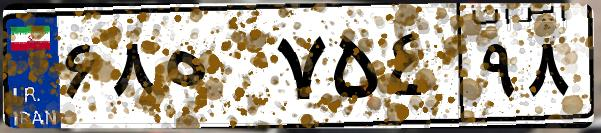4: (385, 28, 445, 110)
5: (330, 28, 385, 110)
6: (57, 26, 110, 100)
7: (270, 28, 330, 110)
8: (525, 38, 570, 115), (110, 28, 158, 98)
9: (475, 38, 525, 113)
ه: (158, 20, 270, 120)
